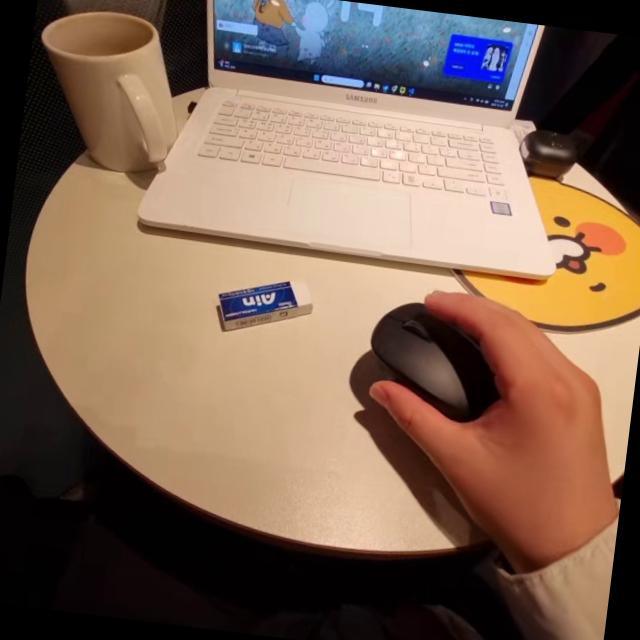eraser: (208, 257, 320, 349)
grab_mouse: (347, 270, 630, 546)
hand: (400, 284, 638, 546)
mouse: (348, 278, 514, 436)
